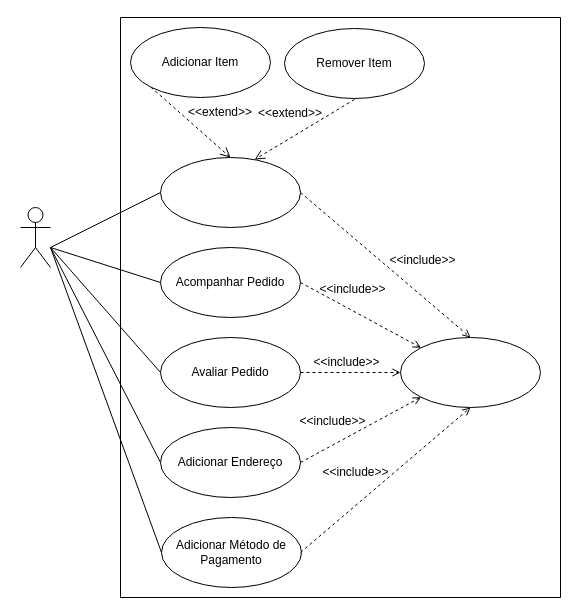
The diagram is 578 pixels wide and 615 high, and some of its shapes have lost their labels. Each missing label, with the centre of its shape:
"Cliente" belongs at point 35,237.
"Fazer Login" belongs at point 470,372.
"Realizar Pedido" belongs at point 230,192.
